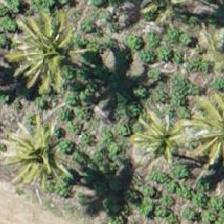coconut_tree: (121, 80, 211, 170), (4, 7, 94, 97), (0, 104, 80, 194), (169, 24, 223, 114)
